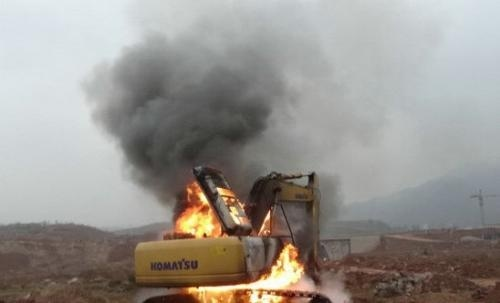fire: (173, 177, 262, 240), (248, 239, 305, 289), (255, 207, 274, 235)
